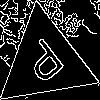P: (20, 36, 73, 93)
